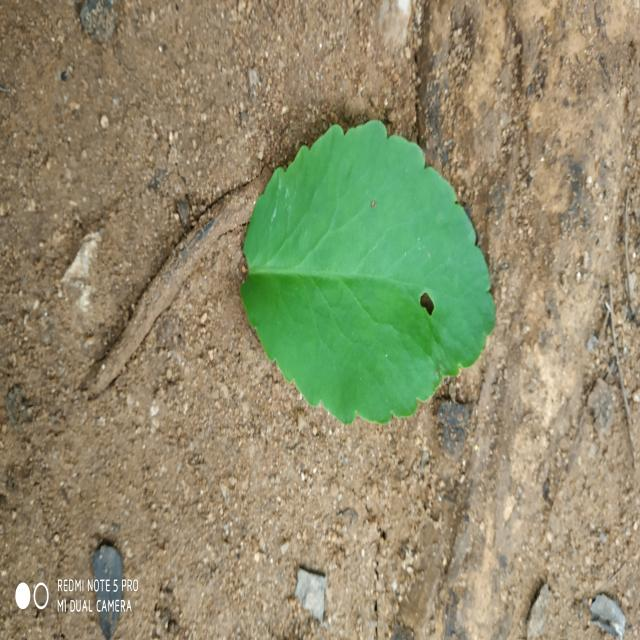defectedspinach: (384, 247, 471, 373)
spinach: (241, 120, 495, 422)
